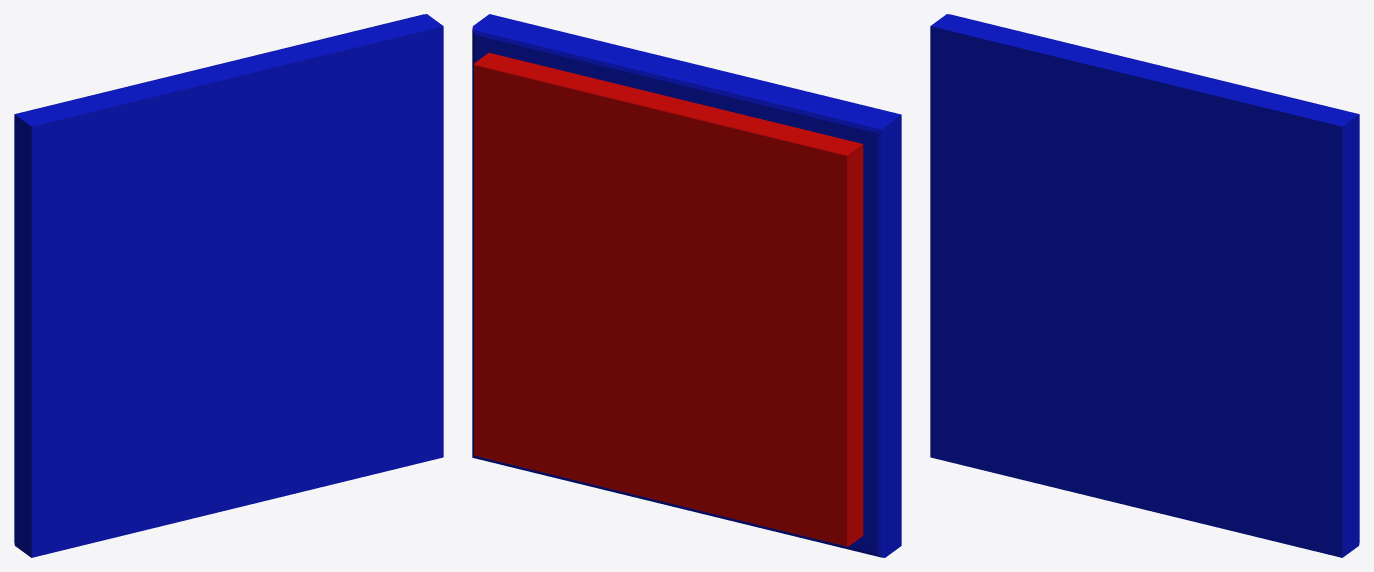
The model's file is CapstoneButtonPlaceholder.fbx.
3 views of the same model, side by side, from view 1: azimuth 30°, elevation 25°; view 2: azimuth 150°, elevation 25°; view 3: azimuth 330°, elevation 25° (orthographic).
Parts seen in each view (by area): view 1: Cube; view 2: Cube; view 3: Cube.
Boxes of the visible parts, x1,y1,x2,y2 form: Cube: (14, 14, 443, 557); Cube: (472, 14, 901, 557); Cube: (930, 14, 1359, 557).
Bounding box in the file's own units: 668 × 668 × 98.4.
